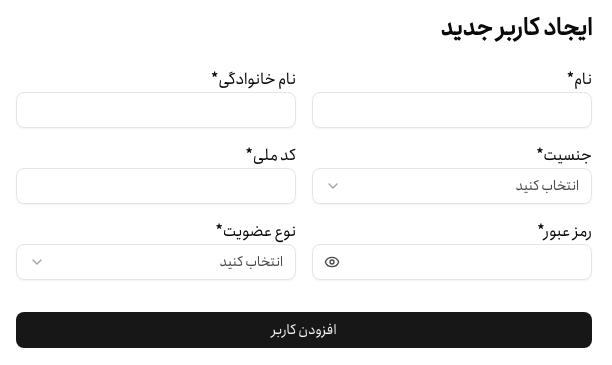
Test case: UserCreate › shows and hides the password on the other creation path
Type "safe-password" into the password field labelled "رمز عبور*" at {"x": 452, "y": 262}, box left=312, top=244, right=592, bottom=280
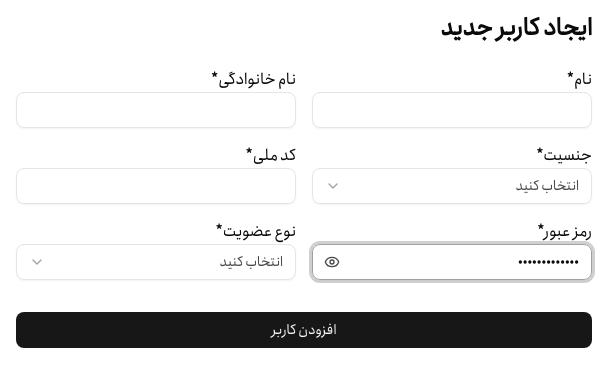
Click the button named "نمایش رمز عبور" at {"x": 332, "y": 262}, box left=320, top=250, right=344, bottom=274
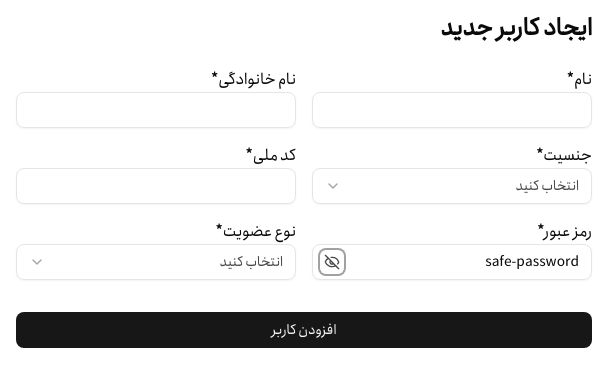
Result: the field labelled "رمز عبور*" shows its text at left=312, top=244, right=592, bottom=280
